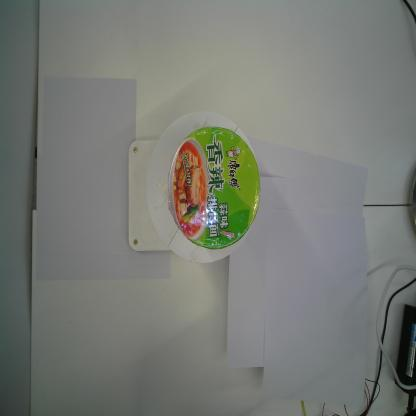Instant Noodles: (167, 126, 261, 249)
